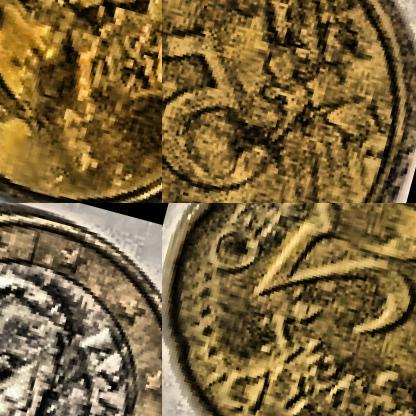coin: (162, 203, 415, 415), (162, 0, 415, 202), (0, 203, 161, 415), (0, 0, 161, 202)
